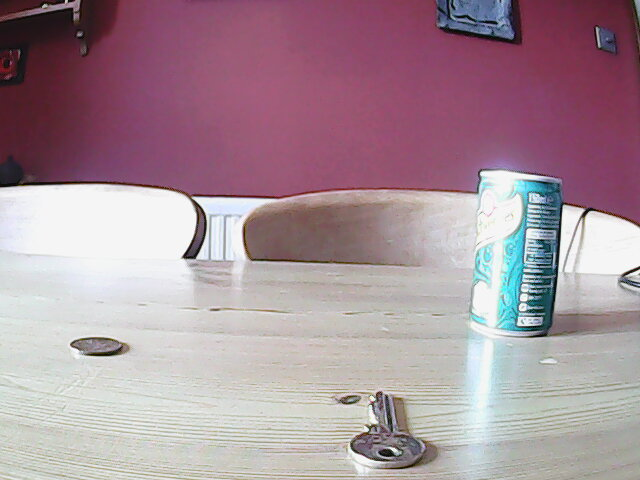Can: (467, 165, 565, 341)
Coin: (64, 333, 126, 359)
Key: (349, 388, 429, 469)
